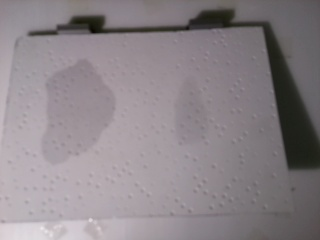Water_detected: (54, 81, 113, 159), (179, 90, 219, 139)
